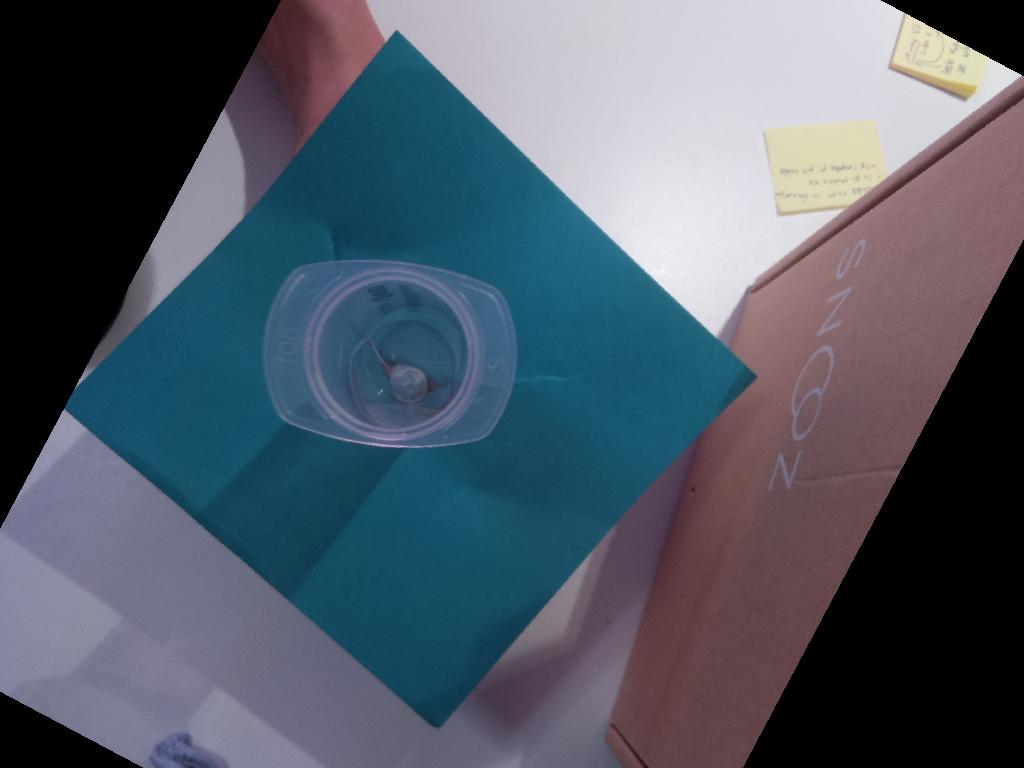clean: (260, 257, 521, 450)
